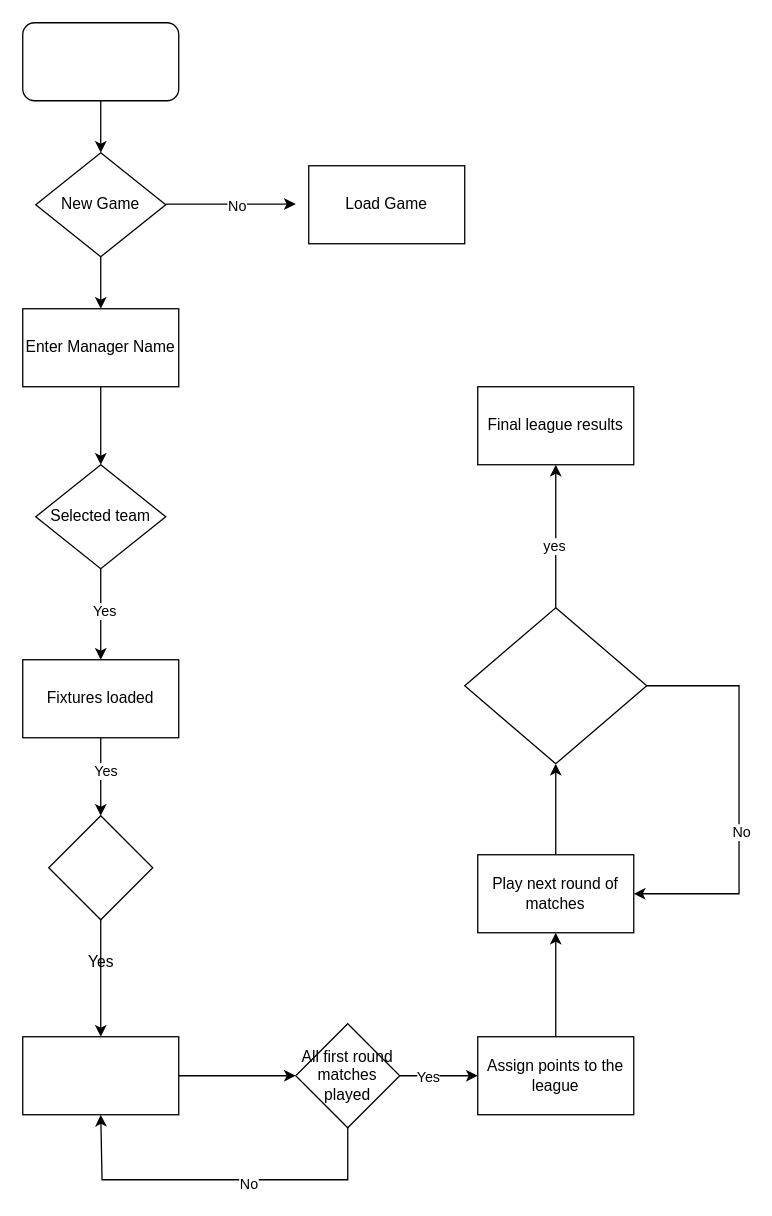
Some shapes in this 772 by 1216 pixel diagram are drawn without their labels. The shapes that lost their labels are listed below. From the top down, each one's centre as x and y in pixels, then its label:
At point (100, 61): "Start".
At point (555, 685): "All Fixture playeed and league updated".
At point (100, 867): "Select players".
At point (100, 1075): "Play first match And Computer plays all other first round matches".
